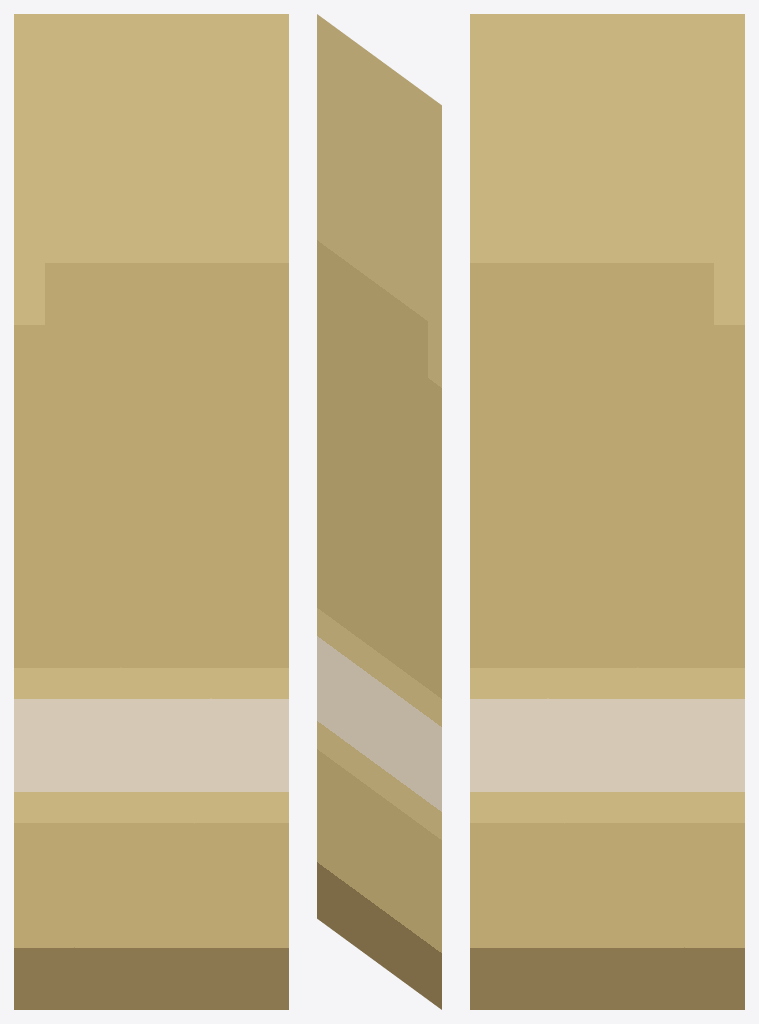
3 views of the same model, side by side, from view 1: azimuth 90°, elevation 25°; view 2: azimuth 210°, elevation 25°; view 3: azimuth 270°, elevation 25° (orthographic). The views are drawn at different scales.
Size of the model in its own units: 0 by 4 by 1.
Materials: 1 (1 with a texture image).
